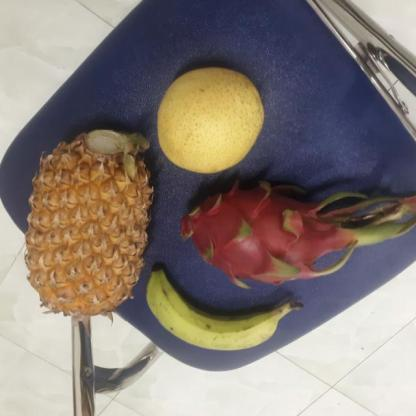banana: (139, 272, 285, 352)
pear: (150, 67, 267, 174)
pineapple: (24, 125, 152, 315)
pitaya: (170, 179, 342, 288)
